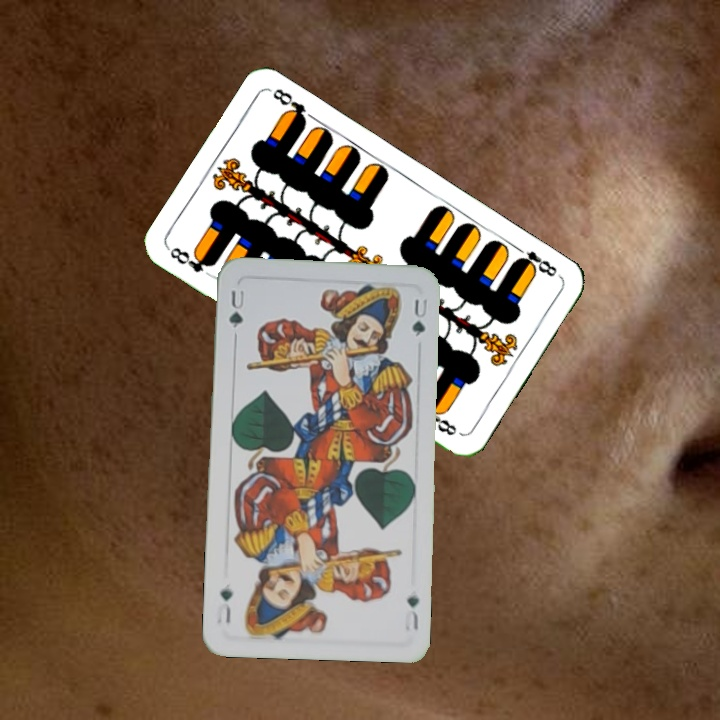E8: (510, 242, 560, 280), (165, 243, 218, 276)
GU: (225, 286, 247, 341), (403, 591, 421, 633)
